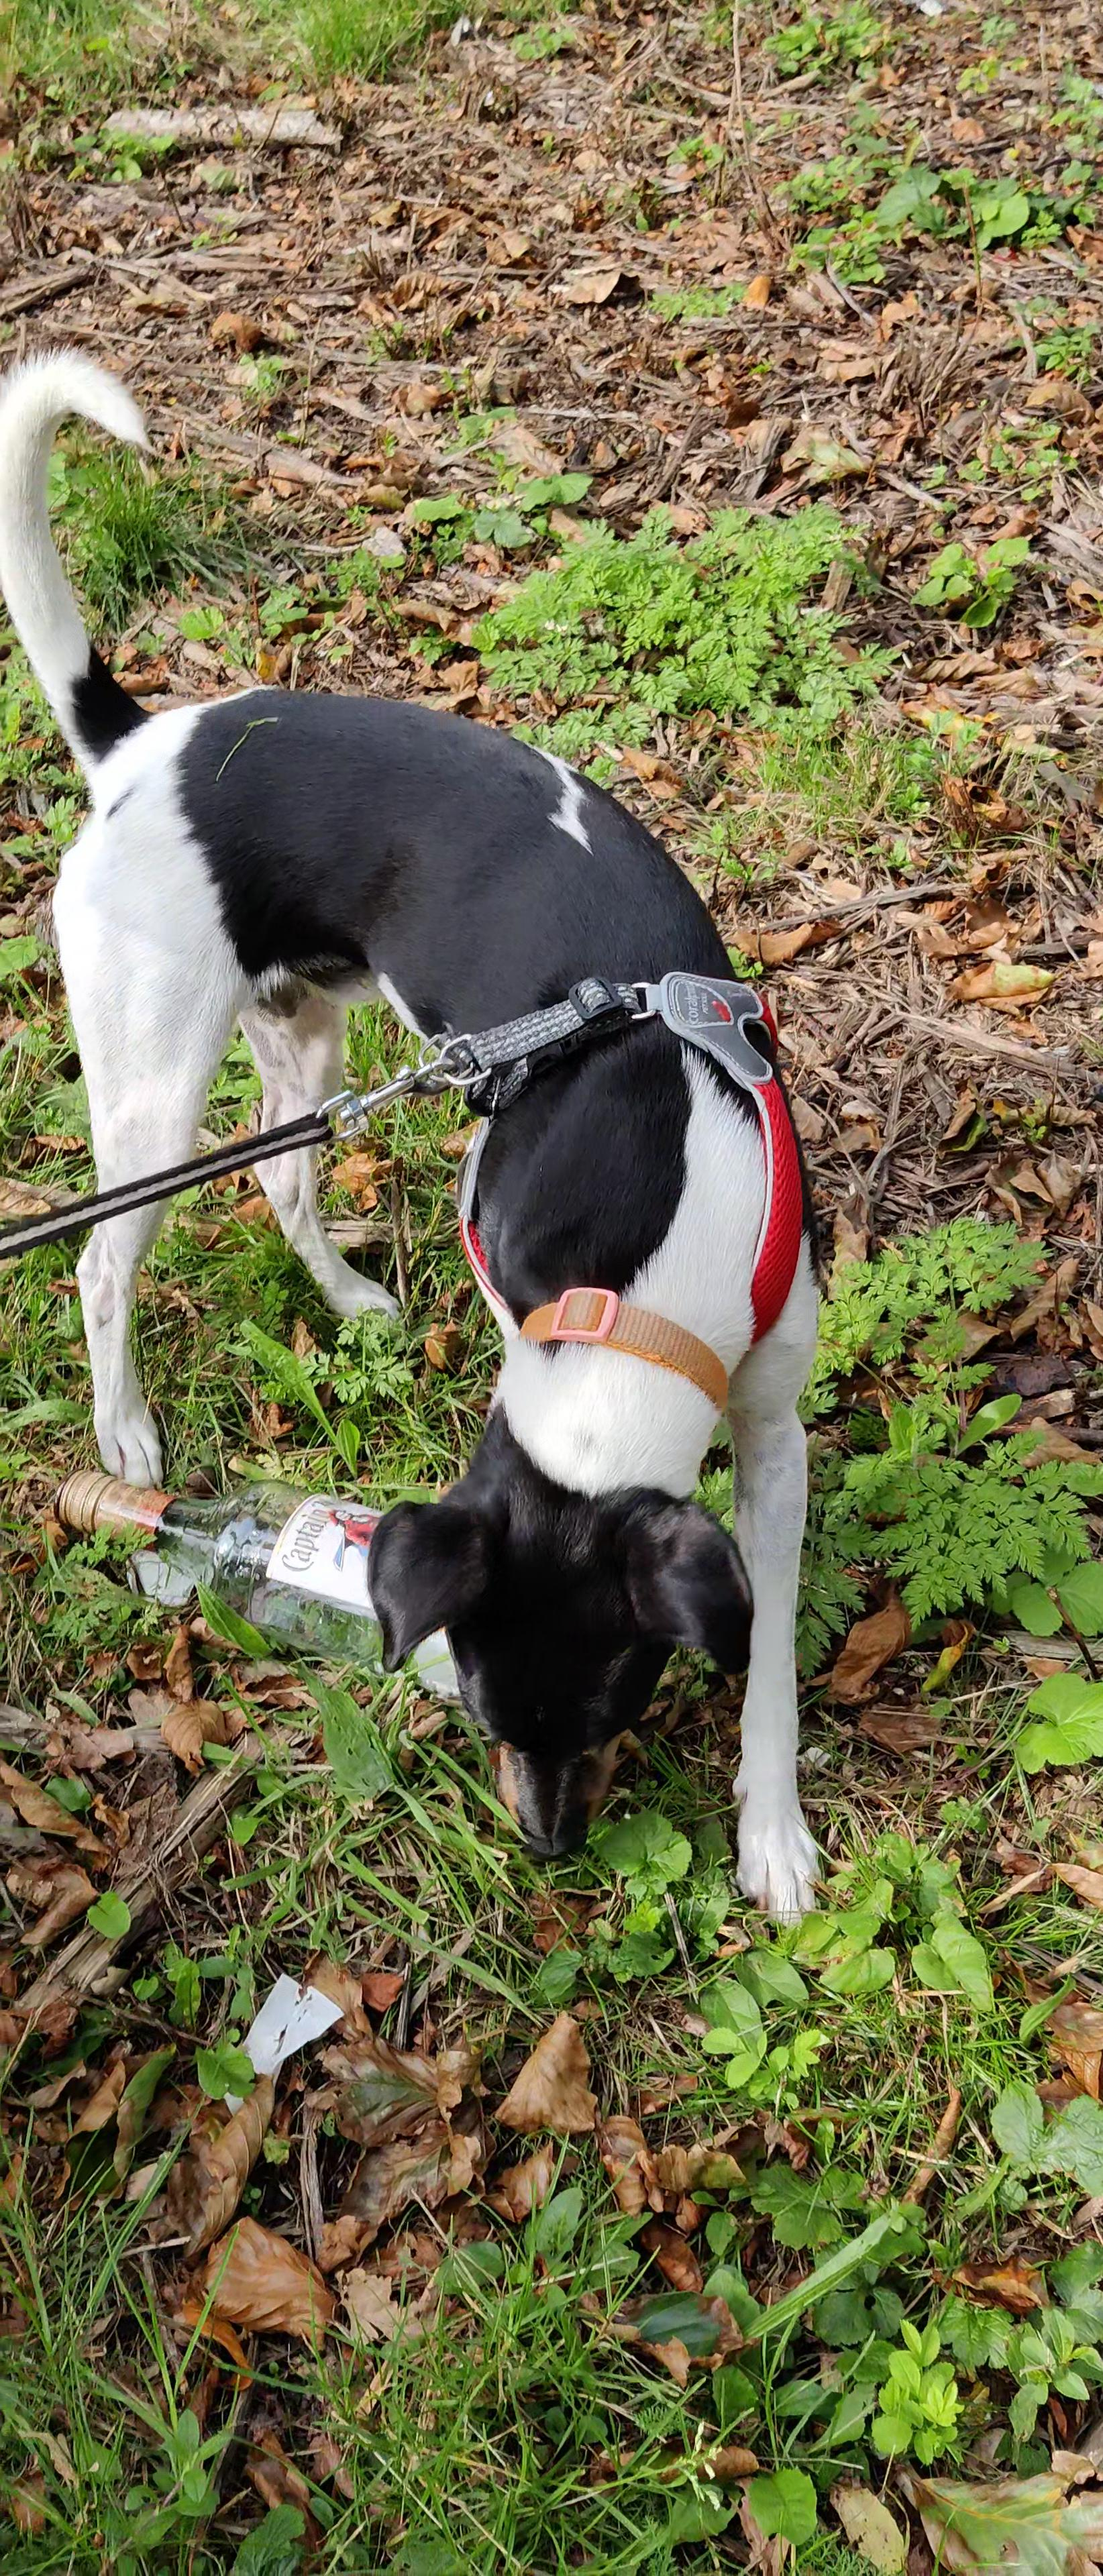Dog: (0, 340, 853, 1929)
